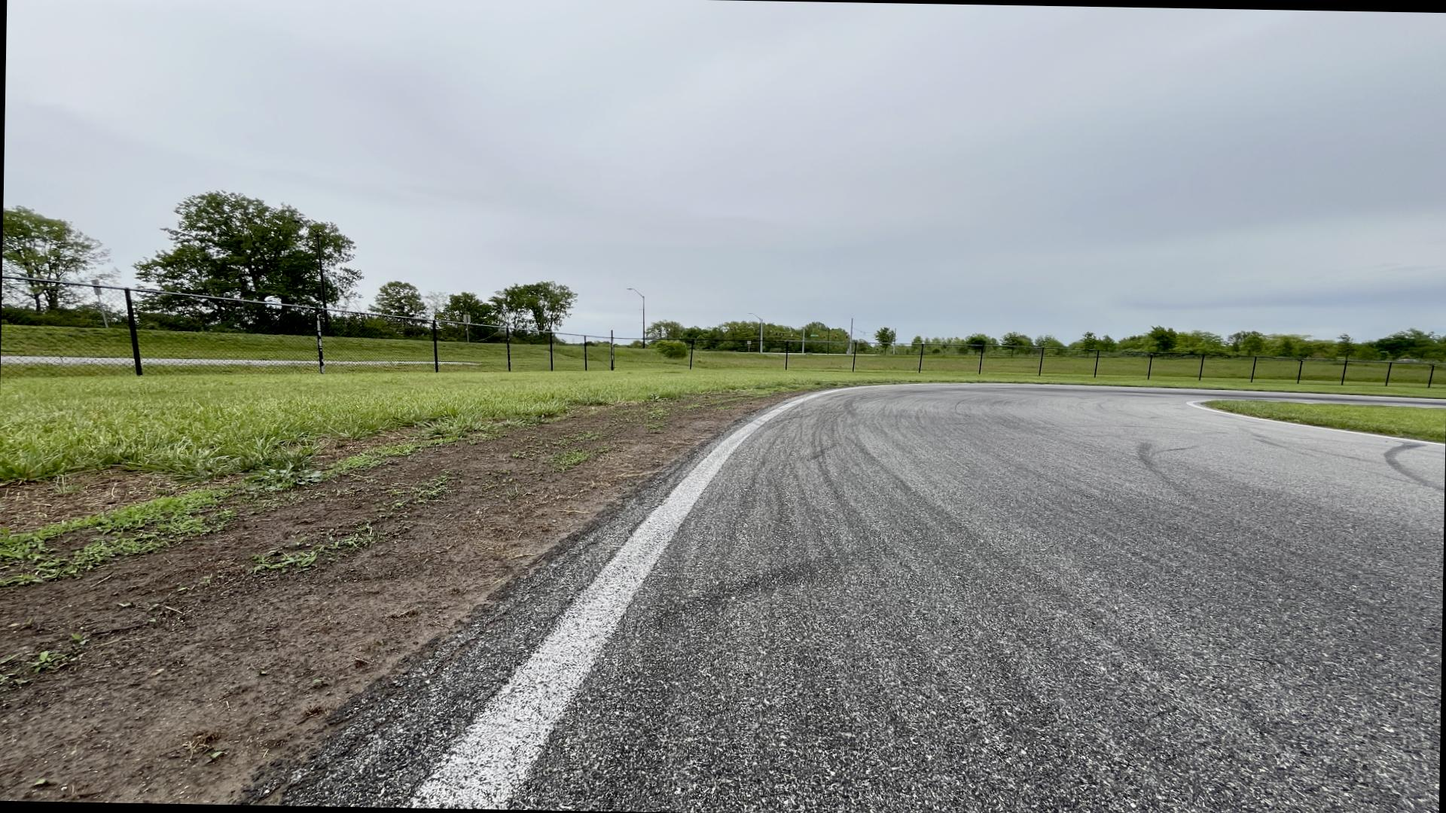white-line: (396, 383, 1117, 809), (1185, 400, 1444, 446)
